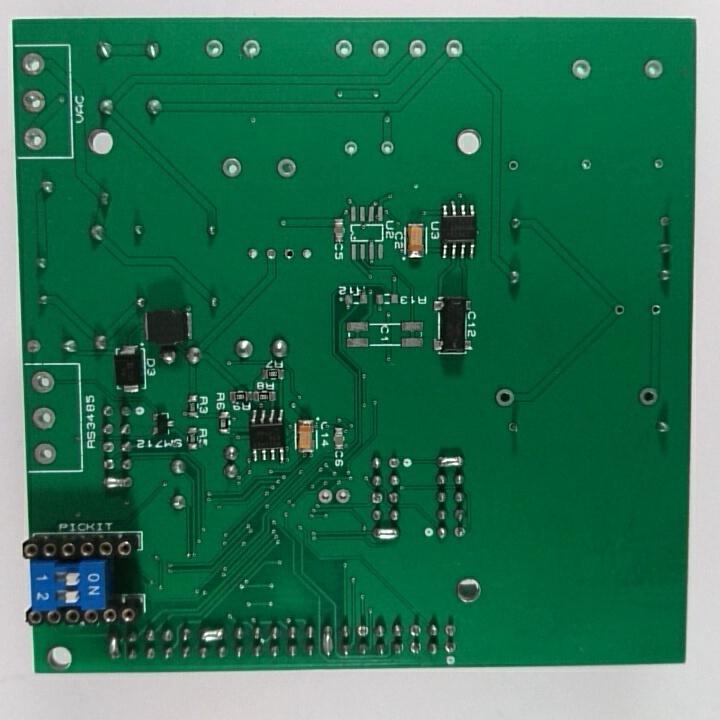F: (19, 87, 50, 118), (30, 403, 59, 433), (19, 51, 49, 79), (21, 127, 50, 155), (328, 35, 356, 63), (30, 372, 58, 399), (569, 58, 596, 85), (442, 39, 467, 64), (220, 155, 244, 181), (239, 38, 266, 61), (33, 443, 60, 466), (493, 386, 517, 411), (273, 158, 299, 181), (202, 40, 231, 60), (642, 56, 666, 80), (368, 38, 393, 60), (407, 40, 430, 62), (638, 386, 659, 408), (24, 335, 43, 359), (609, 301, 630, 319), (340, 139, 359, 158), (334, 487, 353, 506), (355, 621, 372, 642), (452, 525, 470, 544), (316, 487, 334, 506), (243, 246, 261, 264), (379, 140, 396, 159), (647, 300, 665, 317), (506, 420, 521, 440), (441, 640, 459, 656), (100, 440, 117, 456), (407, 640, 423, 657), (264, 246, 279, 264), (657, 212, 671, 231), (299, 246, 315, 262), (651, 157, 667, 172), (370, 492, 384, 509), (507, 159, 521, 175), (580, 158, 596, 172), (387, 455, 401, 471), (284, 247, 296, 263)
P: (368, 526, 404, 543), (199, 625, 228, 646), (106, 632, 124, 664), (102, 475, 136, 491), (433, 453, 467, 469), (323, 621, 335, 661)
